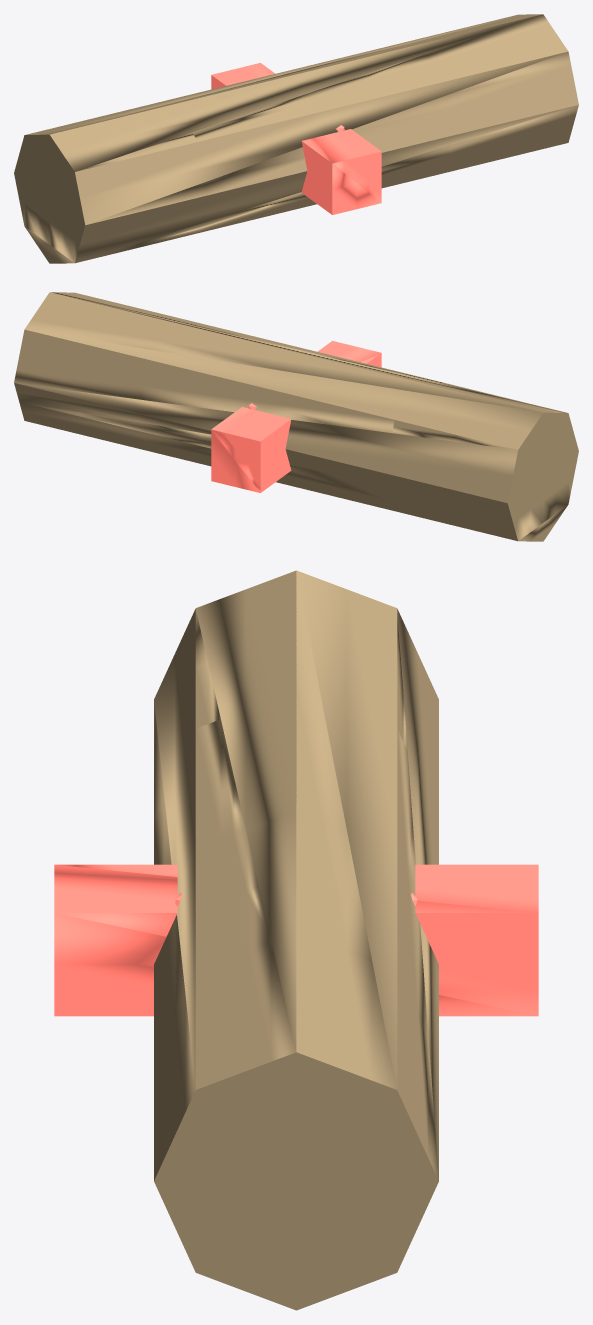
File: scroll.glb
3 views of the same model, one above another, from view 1: azimuth 30°, elevation 25°; view 2: azimuth 150°, elevation 25°; view 3: azimuth 270°, elevation 25° (orthographic). The views are drawn at different scales.
Parts seen in each view (by area): view 1: Scroll; view 2: Scroll; view 3: Scroll.
Part boxes in pixels (box(x1,y1,x2,y2)): Scroll: box(14, 14, 578, 263); Scroll: box(14, 292, 578, 541); Scroll: box(54, 570, 538, 1310).
Bounding box in the file's own units: 0.8 × 0.2 × 0.34.
